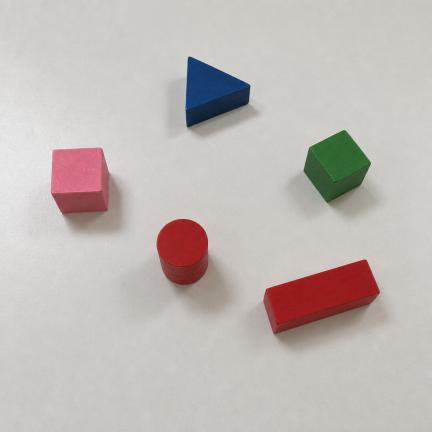BuildingBlocks: (263, 260, 380, 333), (304, 131, 370, 202), (186, 57, 250, 126), (51, 148, 109, 213), (157, 219, 207, 284)
